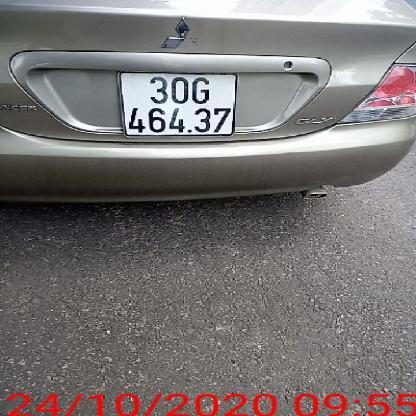biensoxe: (118, 67, 239, 142)
